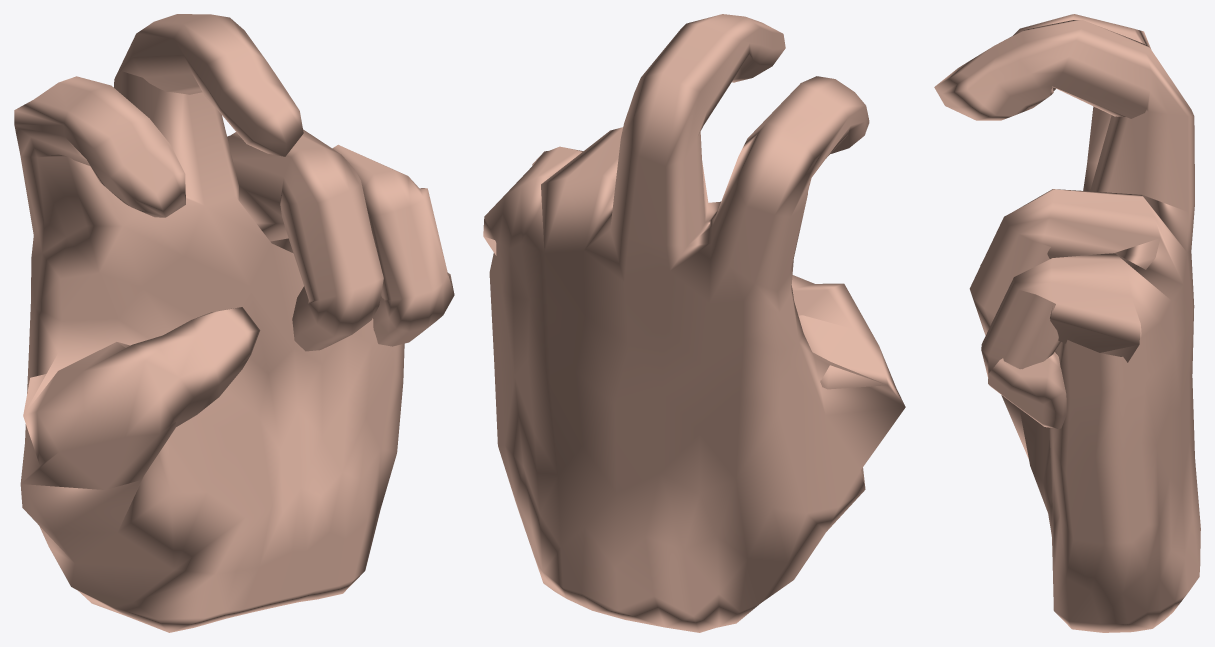
File: FLEXIONADO2.obj
3 views of the same model, side by side, from view 1: azimuth 30°, elevation 25°; view 2: azimuth 150°, elevation 25°; view 3: azimuth 270°, elevation 25° (orthographic). The views are drawn at different scales.
Visible parts, largest first — view 1: mao_dir polySurface1; view 2: mao_dir polySurface1; view 3: mao_dir polySurface1.
Part boxes in pixels (x1,y1,x2,y2): mao_dir polySurface1: (14, 14, 454, 632); mao_dir polySurface1: (483, 14, 905, 632); mao_dir polySurface1: (934, 14, 1200, 632).
Bounding box in the file's own units: 135 × 196 × 86.45.
